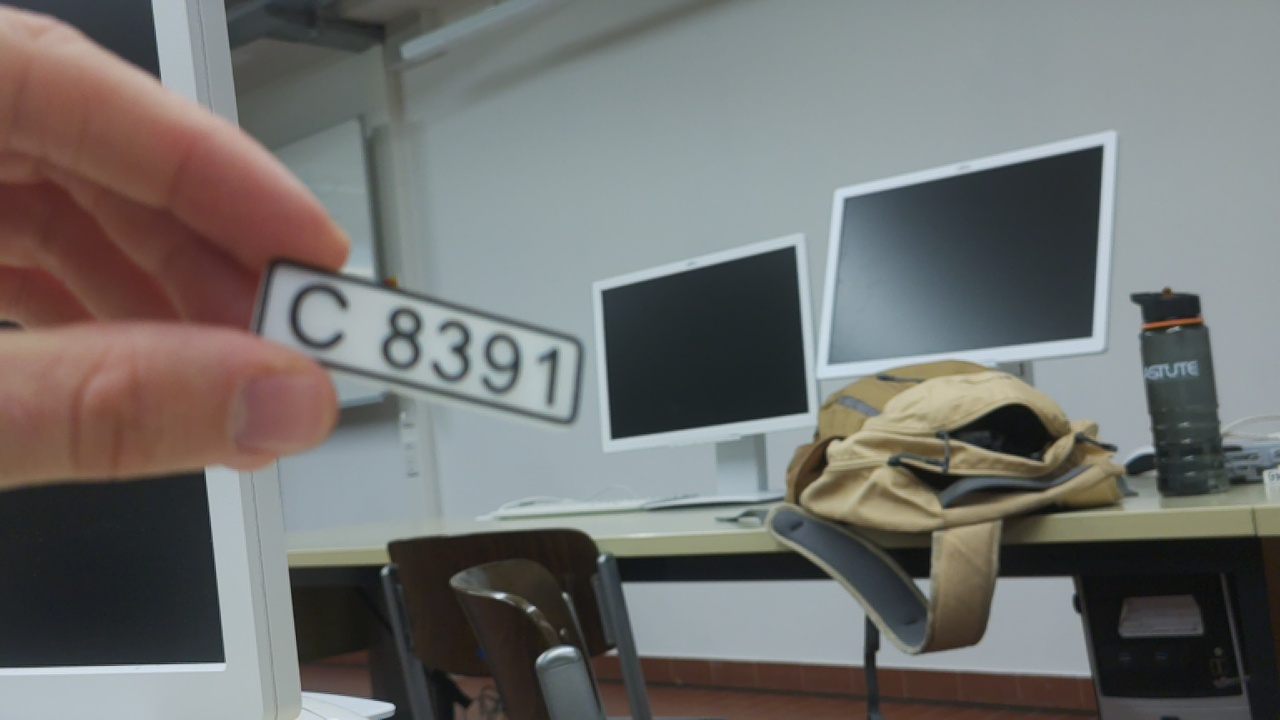license_plate: (243, 247, 594, 435)
